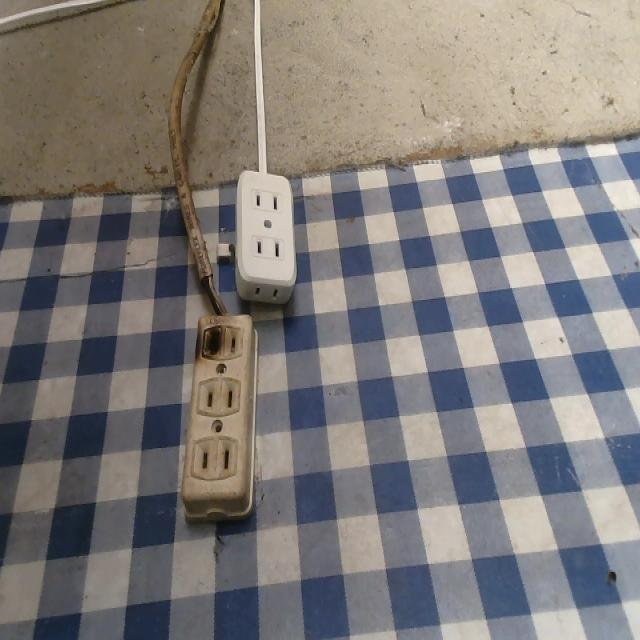-: (195, 319, 227, 365)
